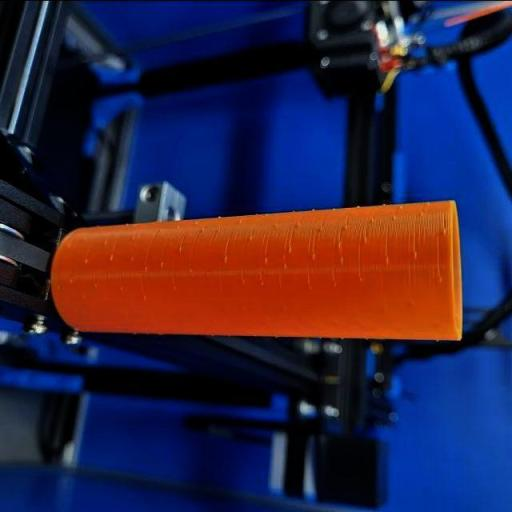blobs: (410, 250, 420, 263), (126, 252, 136, 262), (330, 278, 339, 288), (223, 253, 231, 264), (362, 235, 370, 245), (311, 252, 319, 262), (262, 254, 270, 264), (158, 260, 166, 270), (108, 252, 116, 262), (83, 254, 91, 264), (175, 244, 183, 254), (384, 255, 392, 264), (390, 213, 398, 222), (118, 284, 125, 293), (340, 255, 346, 265), (286, 244, 292, 254), (281, 262, 288, 270), (318, 224, 325, 232), (441, 226, 447, 235), (93, 279, 99, 288), (357, 275, 364, 282), (68, 277, 75, 284), (336, 241, 342, 249), (342, 223, 348, 231), (438, 274, 444, 282), (295, 222, 301, 230), (248, 235, 254, 242), (141, 294, 148, 300), (103, 241, 110, 247), (259, 280, 265, 286), (144, 264, 148, 272), (419, 212, 424, 218)
